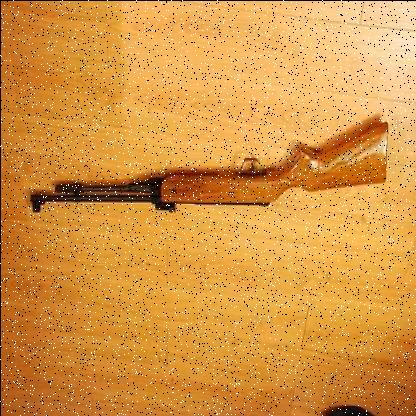rifle: (16, 83, 388, 222)
